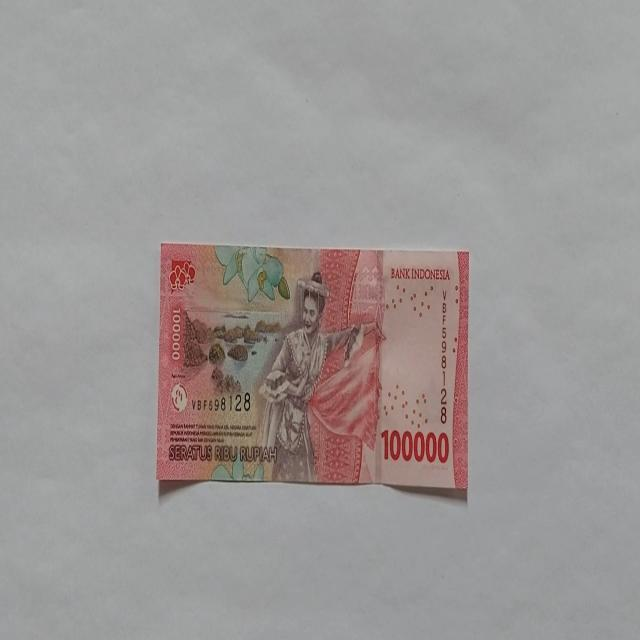seratus ribu rupiah: (156, 243, 470, 494), (256, 270, 366, 484)
